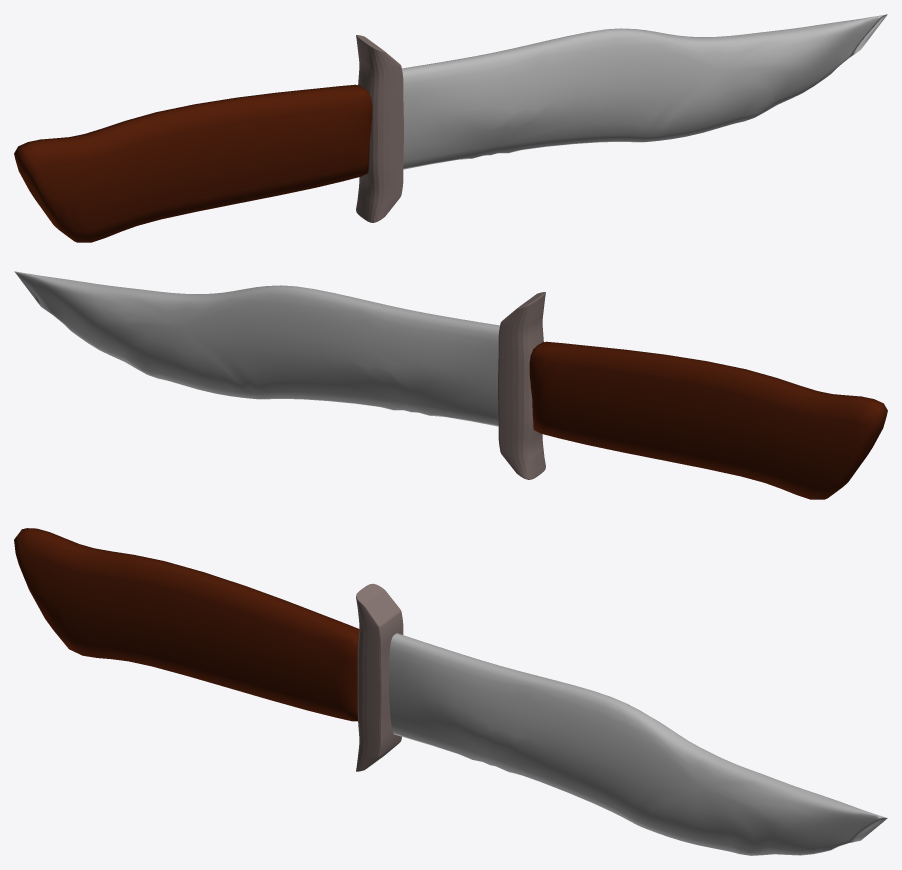
File: knife.fbx
3 views of the same model, one above another, from view 1: azimuth 30°, elevation 25°; view 2: azimuth 150°, elevation 25°; view 3: azimuth 330°, elevation 25° (orthographic).
Parts seen in each view (by area): view 1: Plane.001, Plane, Cube.002; view 2: Plane.001, Plane, Cube.002; view 3: Plane.001, Plane, Cube.002.
Part boxes in pixels (left/top/right/bottom): Plane.001: left=402, top=14, right=887, bottom=169; Plane: left=14, top=84, right=372, bottom=242; Cube.002: left=356, top=35, right=403, bottom=222; Plane.001: left=14, top=271, right=499, bottom=426; Plane: left=529, top=341, right=887, bottom=499; Cube.002: left=498, top=292, right=545, bottom=479; Plane.001: left=389, top=633, right=887, bottom=855; Plane: left=14, top=528, right=359, bottom=721; Cube.002: left=356, top=583, right=403, bottom=771.
Size of the model in its own units: 443 by 86.3 by 20.16.
